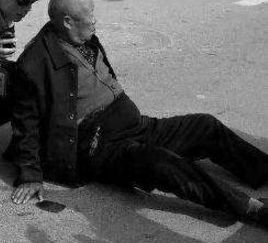falling: (34, 15, 268, 219)
